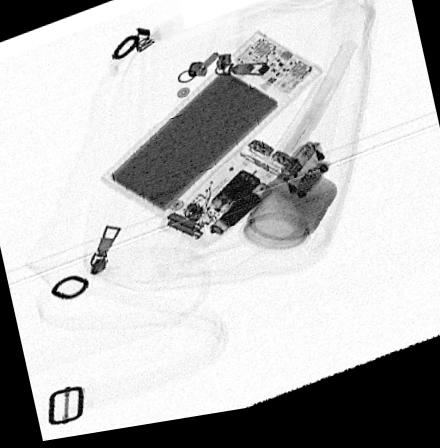Powerbank: (99, 38, 326, 222)
